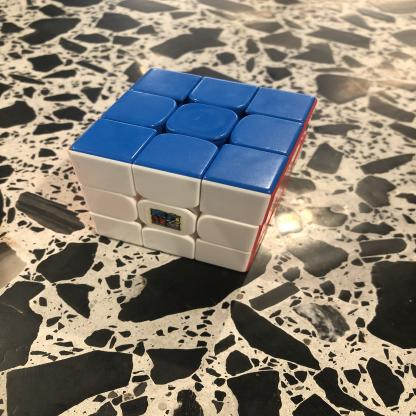SolvedCube: (64, 56, 325, 285)
